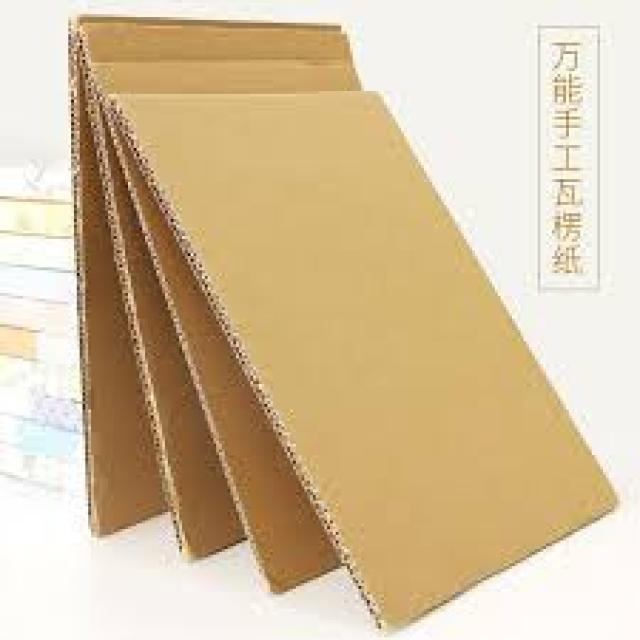Cardboard: (109, 88, 618, 638)
